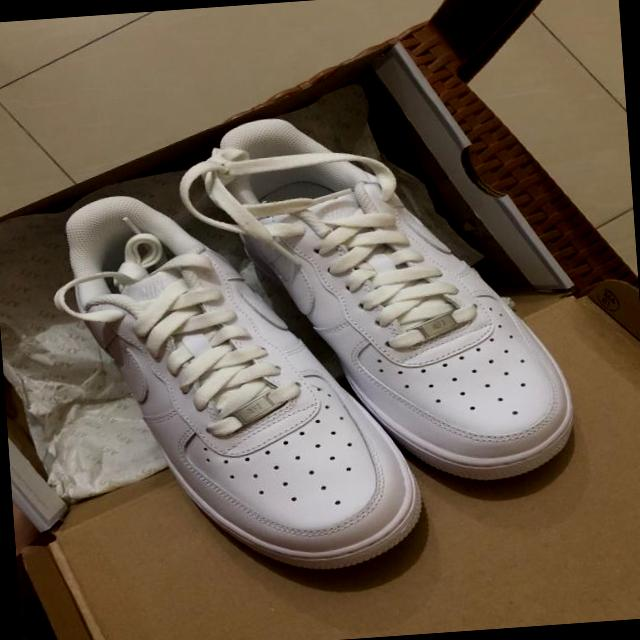nike_original_airforce: (179, 97, 583, 506), (49, 174, 430, 591)
